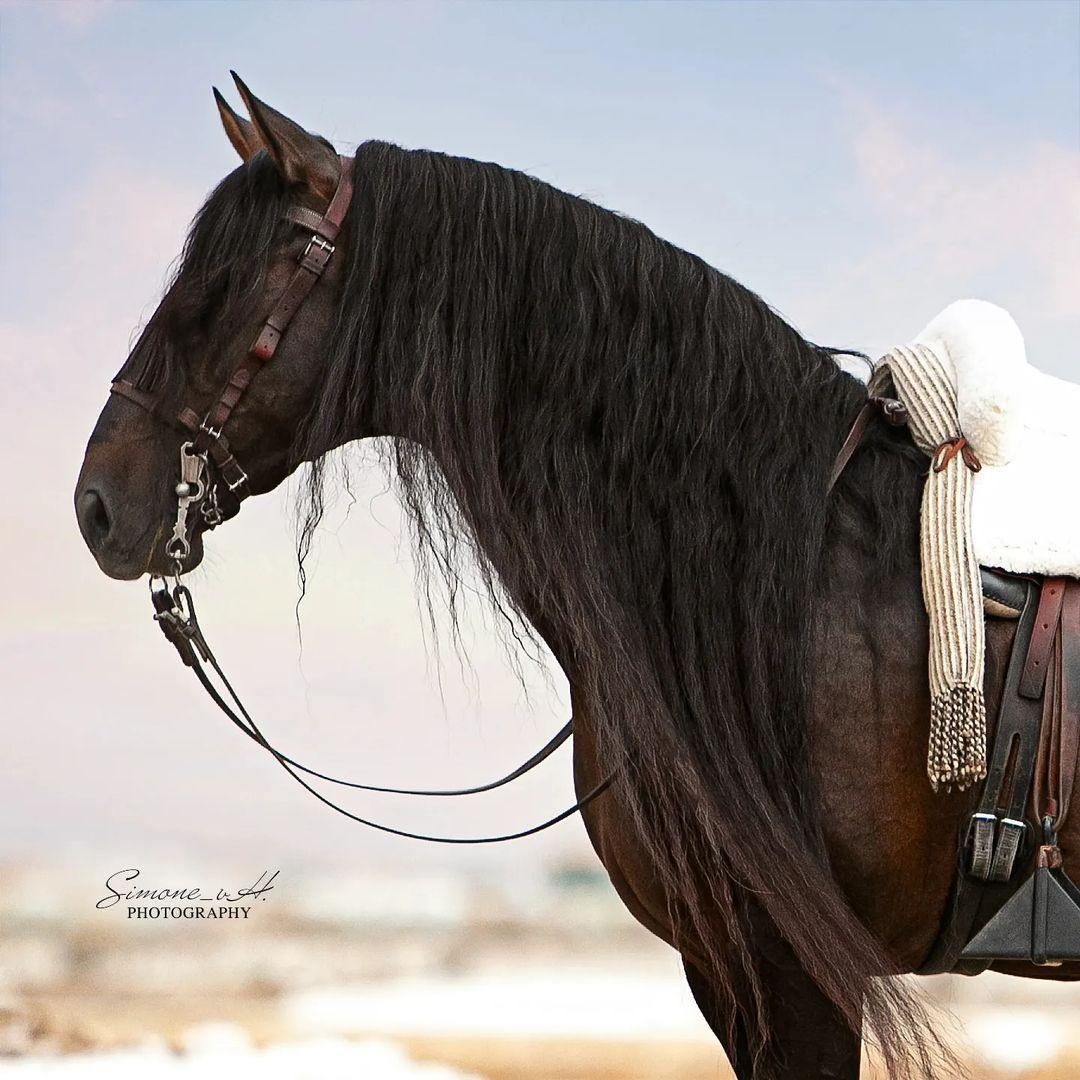horse: (72, 68, 1077, 1078)
